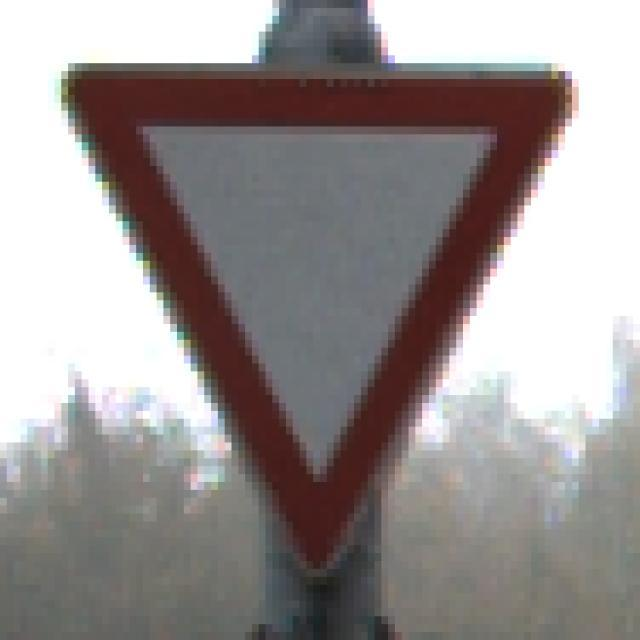give way: (59, 56, 577, 580)
